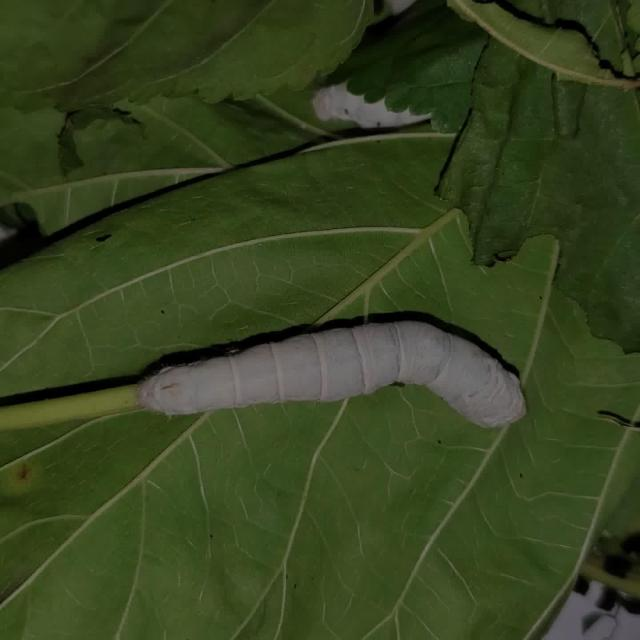Healthy: (129, 303, 540, 460)
